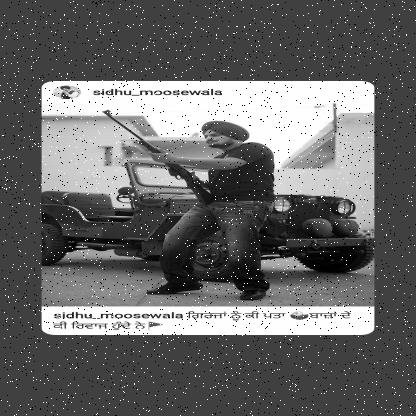rifle: (100, 108, 216, 208)
